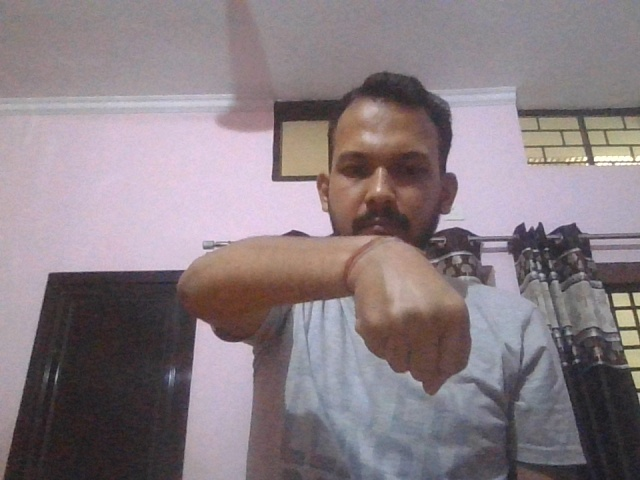yes: (348, 236, 473, 398)
